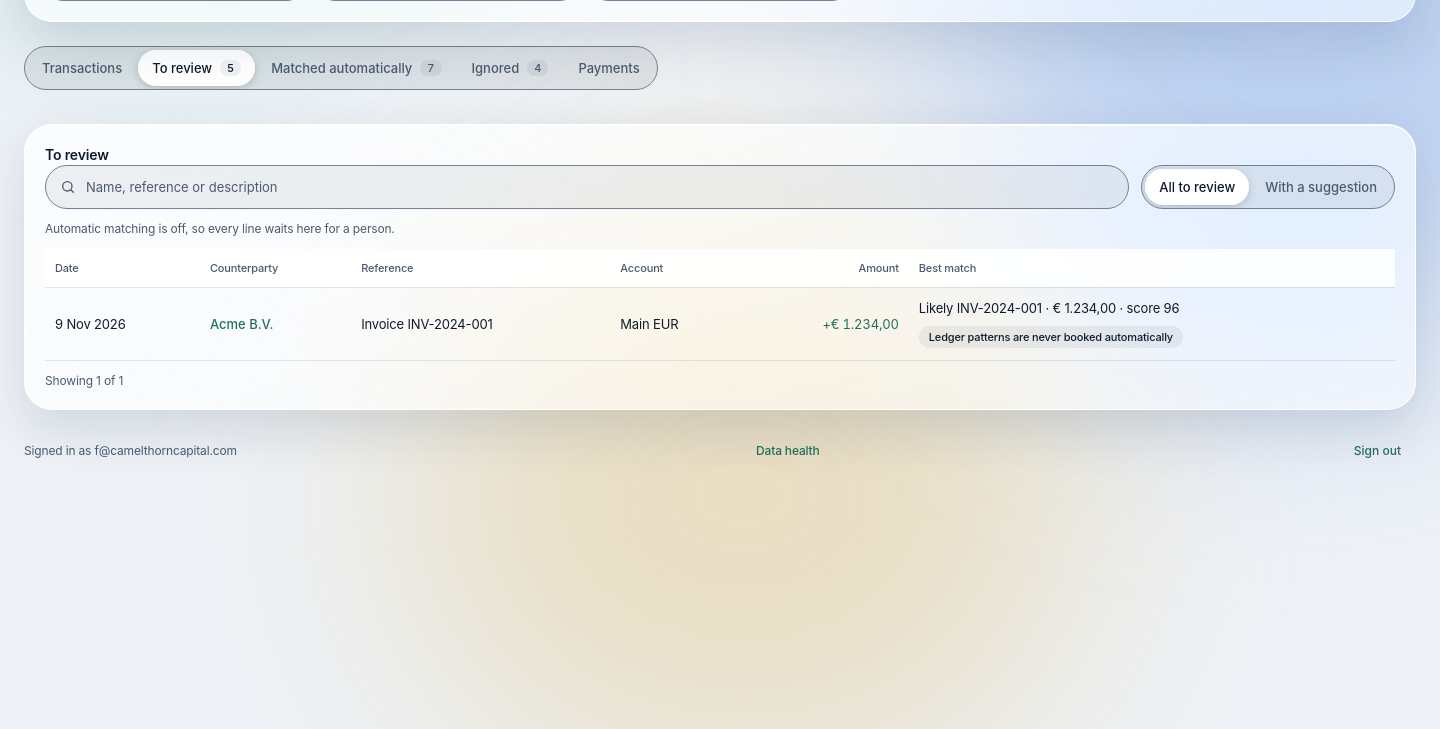
Test case: transaction and candidates › shows the line with a masked account and the ranked candidates with the engine's sentences
This screenshot has width=1440, height=729.
(page scrolled)
Step 1. Click the button "Acme B.V." → point(242, 324), box [210,312,274,336]
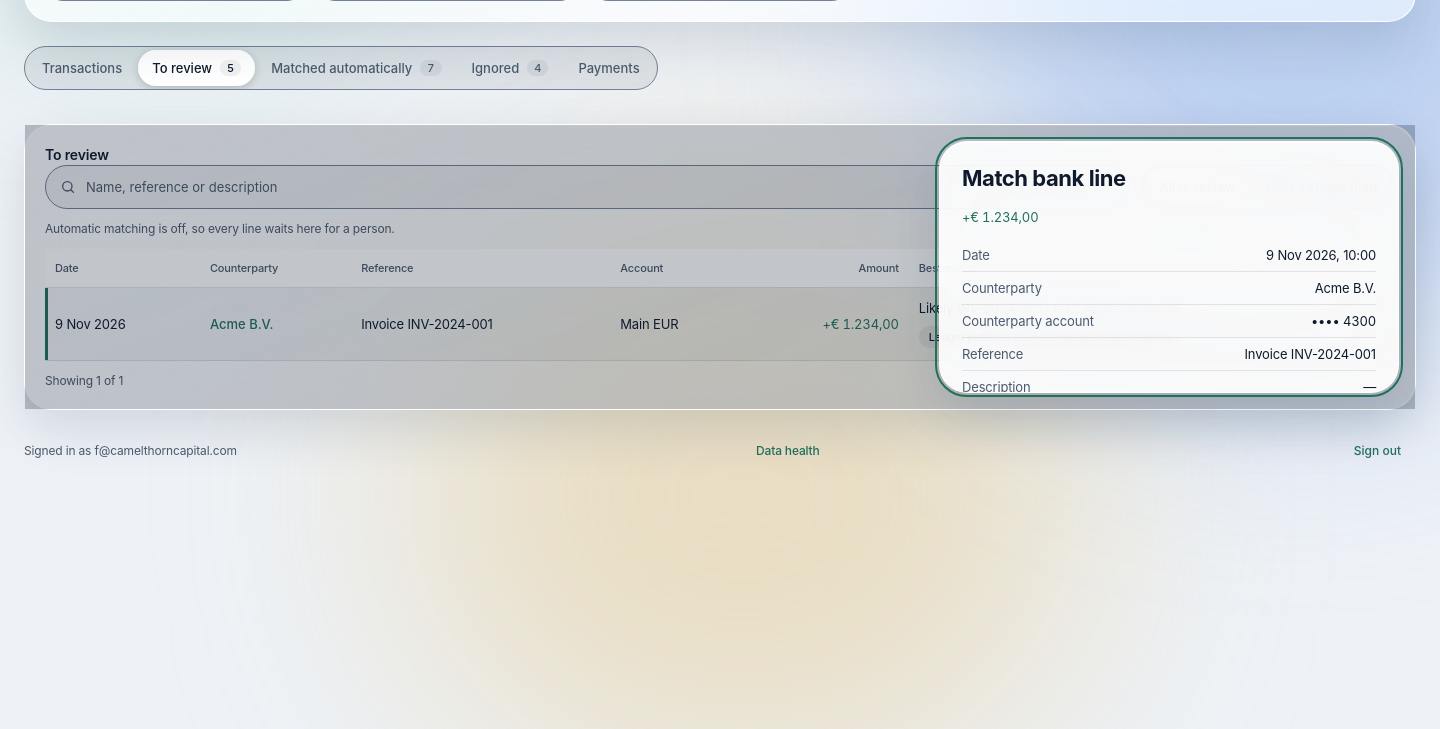
Expected: the text "Counterparty" is shown, [962,280,1042,296]
Expected: the dialog "Match bank line" shows "+€ 1.234,00", [939,141,1399,393]
Expected: the dialog "Match bank line" shows "Invoice INV-2024-001", [1244,346,1376,362]
